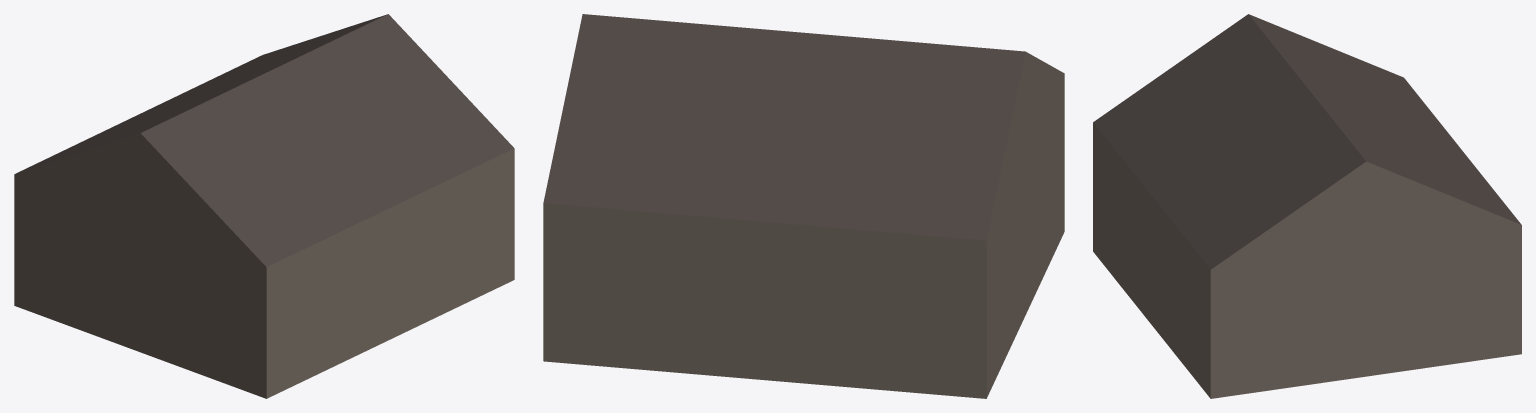
3 renders of one model, left to right at view 1: azimuth 30°, elevation 25°; view 2: azimuth 150°, elevation 25°; view 3: azimuth 270°, elevation 25°, orthographic. The views are drawn at different scales.
Visible parts, largest first — view 1: HP-w859457325; view 2: HP-w859457325; view 3: HP-w859457325.
Part boxes in pixels (<box>): HP-w859457325: <box>14,14,514,398</box>; HP-w859457325: <box>543,14,1064,398</box>; HP-w859457325: <box>1093,14,1521,398</box>.
Bounding box in the file's own units: 19.16 × 10 × 18.06.
